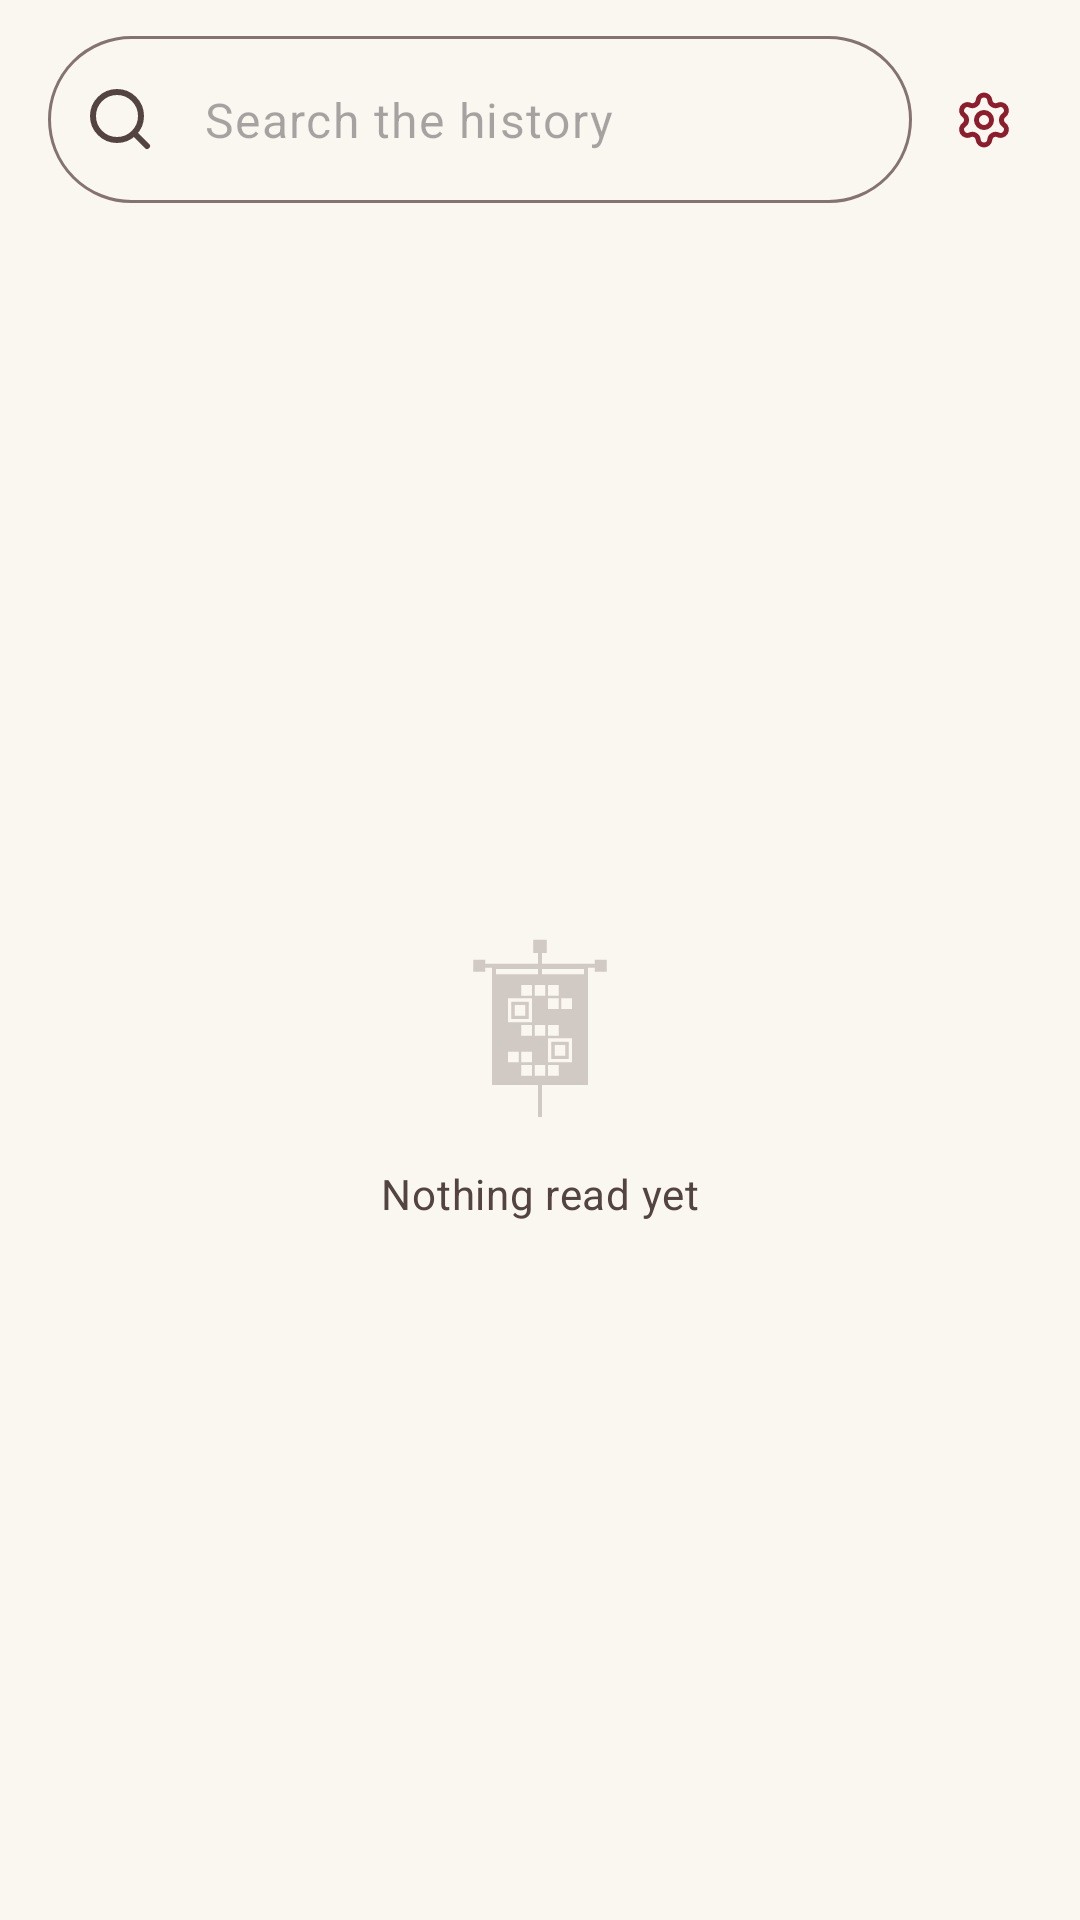

Icon bounding boxes for this 1080px×1920px phone screenshot, format (x1, y1, x2, y2):
Settings: (959, 92, 1009, 148)
signum: (473, 940, 607, 1117)
